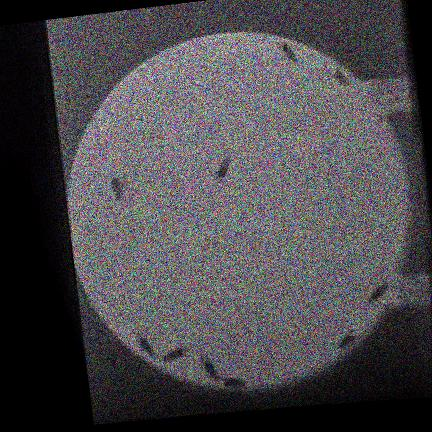fly: (201, 356, 219, 381), (136, 335, 154, 358), (162, 346, 187, 362), (368, 283, 388, 302), (277, 44, 297, 63), (331, 68, 348, 86), (216, 158, 229, 181), (338, 331, 354, 349), (110, 177, 122, 200), (223, 378, 244, 390)
